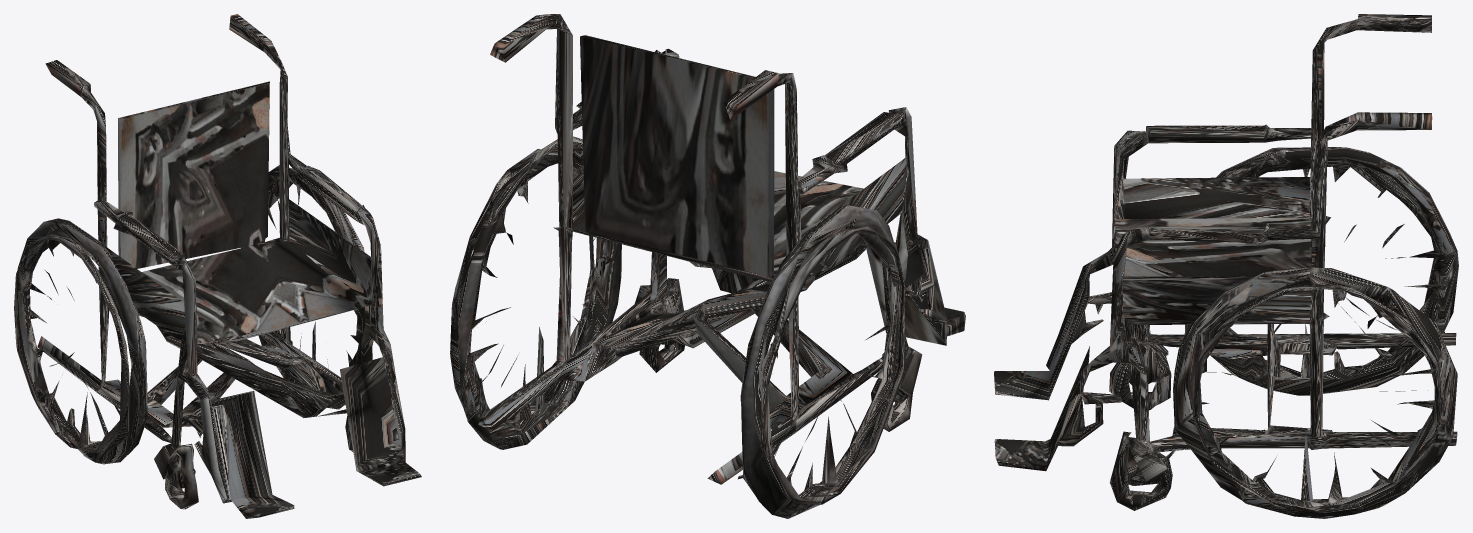
File: wheelchair.glb
3 renders of one model, left to right at view 1: azimuth 30°, elevation 25°; view 2: azimuth 150°, elevation 25°; view 3: azimuth 270°, elevation 25°, orthographic. The views are drawn at different scales.
Visible parts, largest first — view 1: wheelchair; view 2: wheelchair; view 3: wheelchair.
Boxes of the visible parts, <box> form: wheelchair: <box>14,14,421,518</box>; wheelchair: <box>450,14,965,518</box>; wheelchair: <box>994,14,1458,518</box>.
Bounding box in the file's own units: 0.6924 × 0.932 × 0.9919.
Materials: 1 (1 with a texture image).
